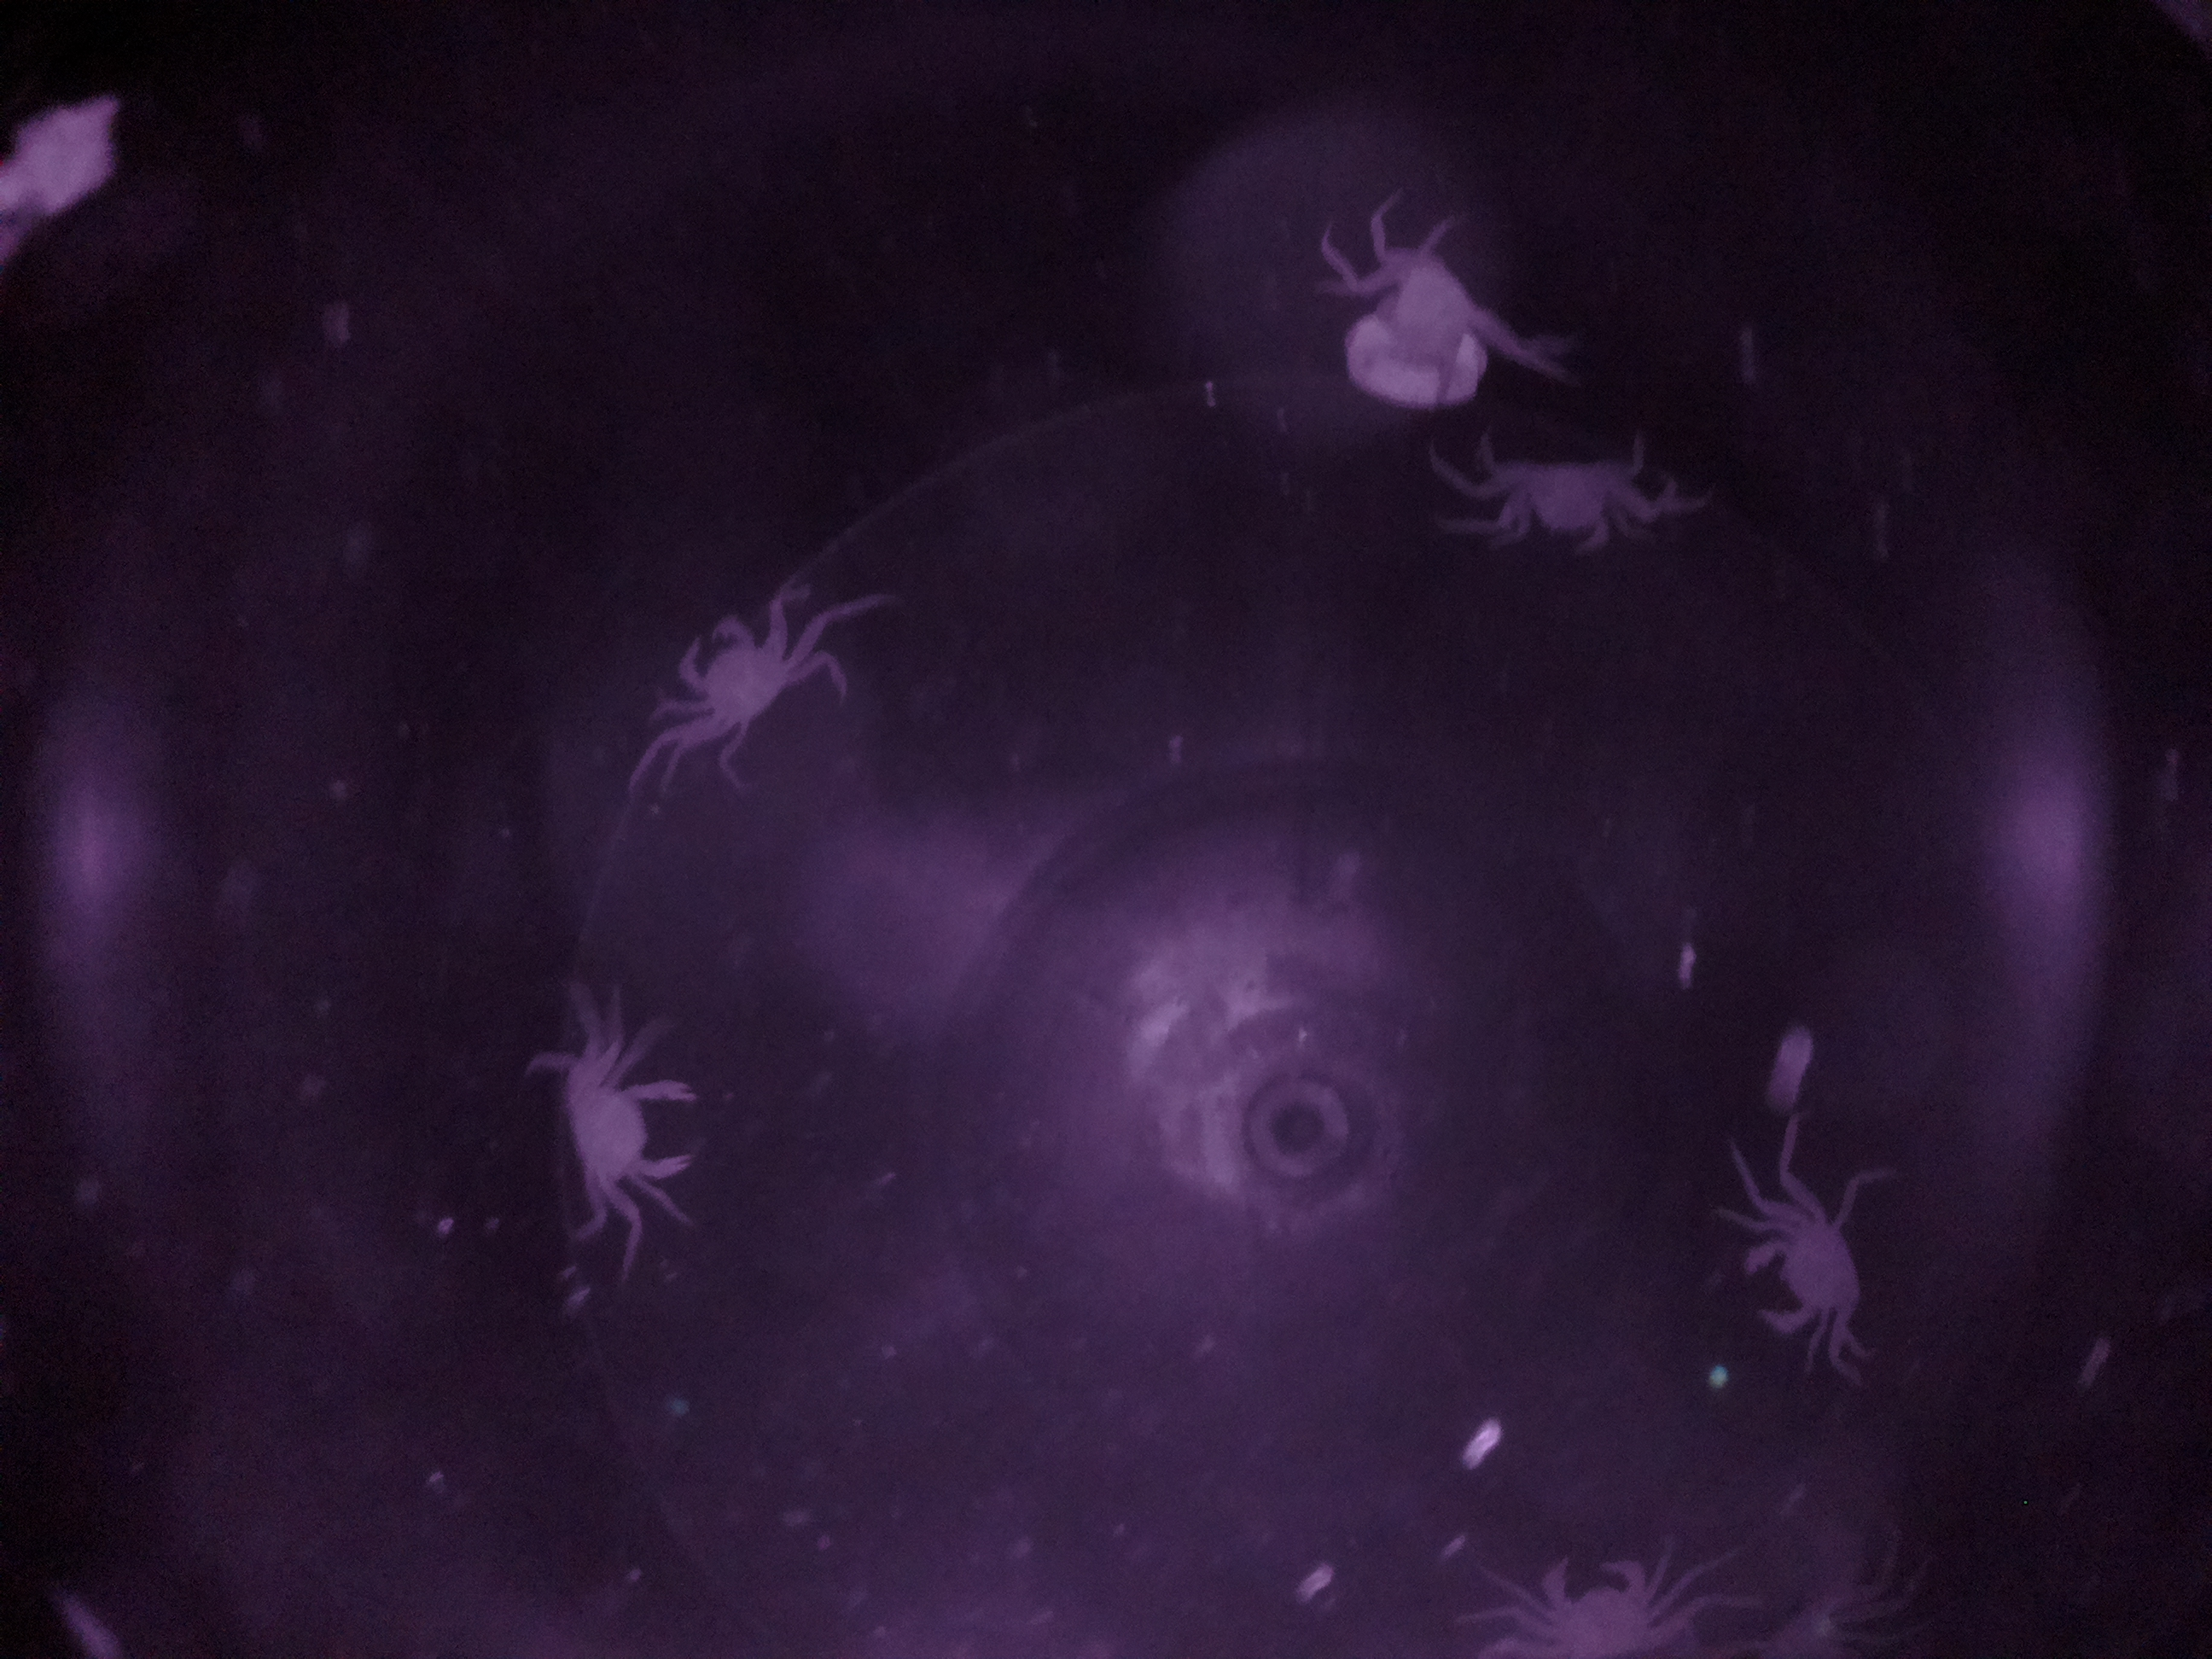Crab: (662, 575, 836, 770), (545, 1039, 712, 1209), (1723, 1183, 1895, 1349)
